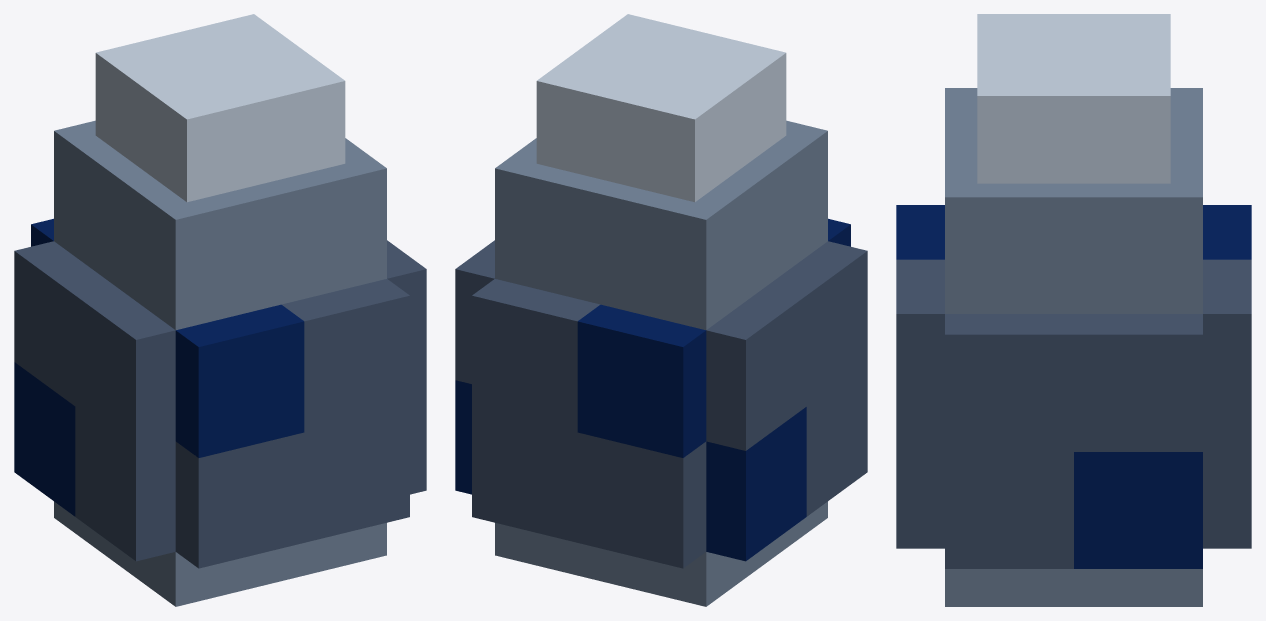
Rendered from egg_giganotosaurus.obj.
3 renders of one model, left to right at view 1: azimuth 30°, elevation 25°; view 2: azimuth 150°, elevation 25°; view 3: azimuth 270°, elevation 25°, orthographic. The views are drawn at different scales.
Parts seen in each view (by area): view 1: egg_giganotosaurus; view 2: egg_giganotosaurus; view 3: egg_giganotosaurus.
Boxes of the visible parts, <box> form: egg_giganotosaurus: <box>14,14,426,606</box>; egg_giganotosaurus: <box>455,14,867,606</box>; egg_giganotosaurus: <box>896,14,1251,606</box>.
Size of the model in its own units: 4.74 by 7.32 by 4.74.
